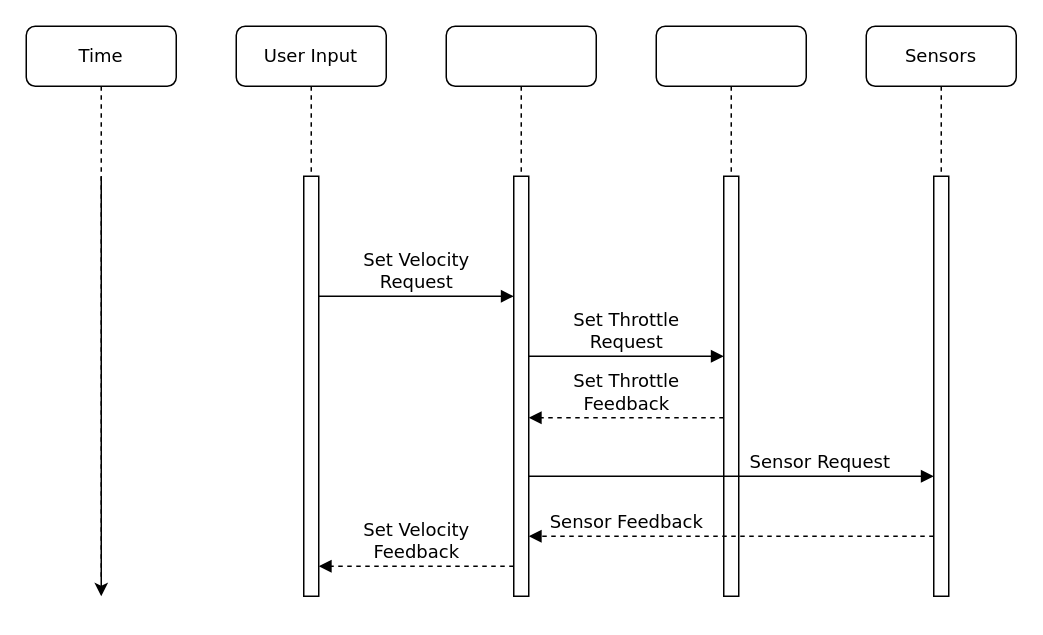
This 1043x635 diagram has some shape labels left out. The shapes that lost their labels are listed below. From the top down, each one's box as (x1, y1, x2, y2) in pixels, then its label:
(445, 25, 596, 596): Cruise Control System
(655, 25, 806, 596): Throttle
